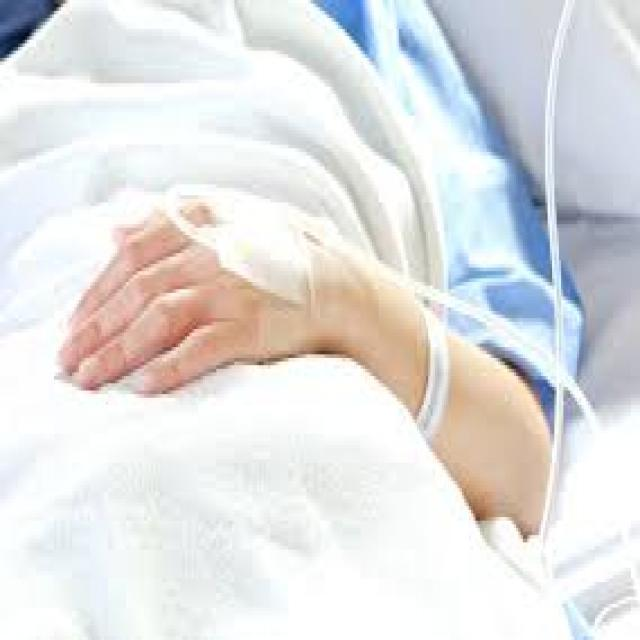iv_fluids: (139, 167, 469, 456)
